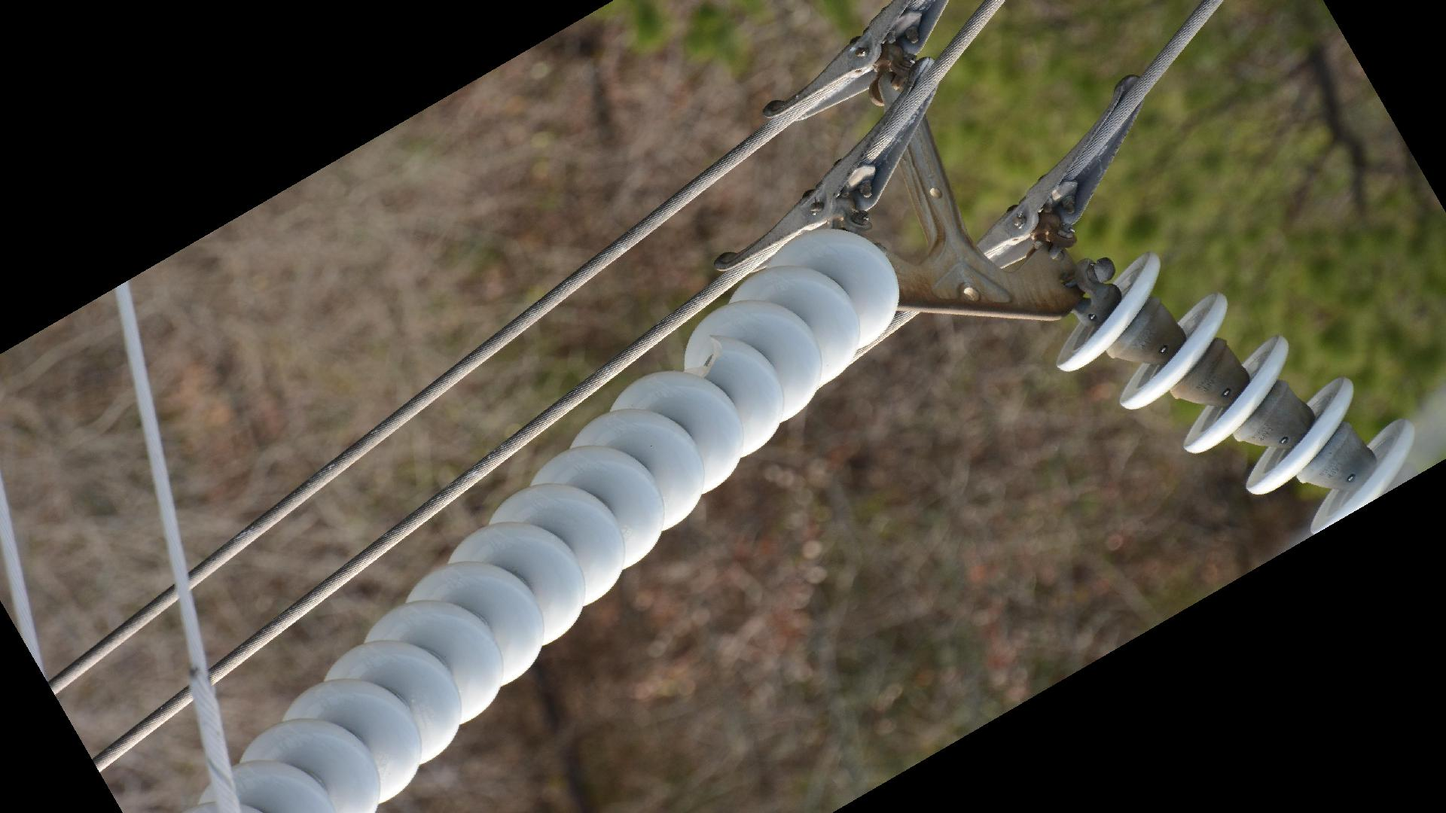insulator: (196, 221, 908, 813), (1051, 246, 1420, 545)
insulator_breakage: (679, 330, 728, 382)
